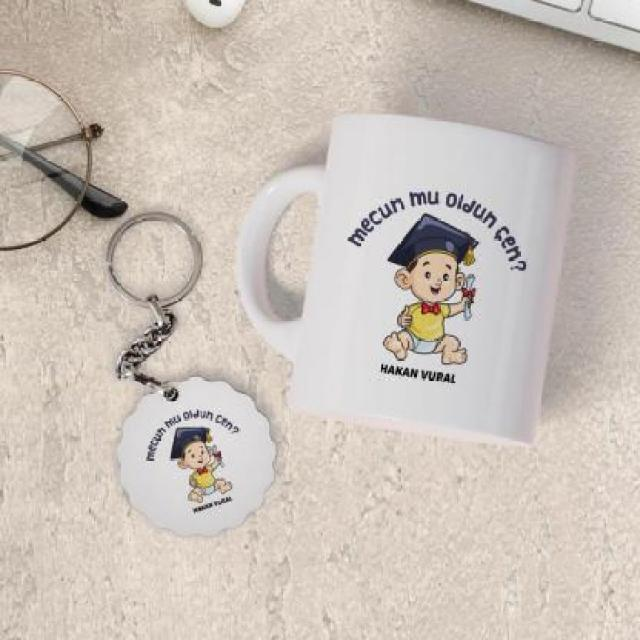taza: (233, 110, 576, 447)
